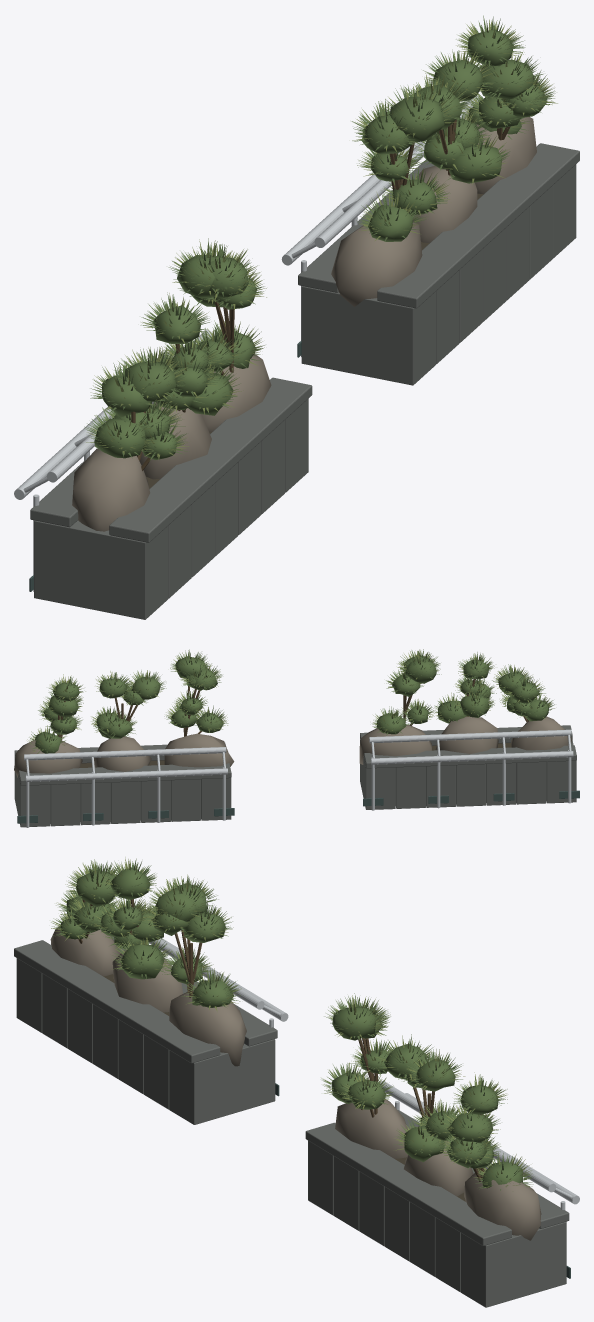
File: hachiko-surround.glb
3 views of the same model, one above another, from view 1: azimuth 30°, elevation 25°; view 2: azimuth 150°, elevation 25°; view 3: azimuth 270°, elevation 25° (orthographic). The views are drawn at different scales.
Visible parts, largest first — view 1: street_surround_stone, street_surround_needle, street_surround_rock, street_surround_silver, street_surround_branch; view 2: street_surround_stone, street_surround_needle, street_surround_rock, street_surround_silver, street_surround_panel, street_surround_branch; view 3: street_surround_stone, street_surround_needle, street_surround_rock, street_surround_silver, street_surround_branch.
Part boxes in pixels (x1,y1,x2,y2): street_surround_stone: (30,143,579,619); street_surround_needle: (84,15,557,461); street_surround_rock: (72,117,536,531); street_surround_silver: (14,96,479,591); street_surround_branch: (131,119,510,470); street_surround_stone: (14,725,576,827); street_surround_needle: (27,649,554,753); street_surround_rock: (14,716,572,777); street_surround_silver: (24,729,573,827); street_surround_panel: (17,790,579,823); street_surround_branch: (57,679,528,739); street_surround_stone: (14,936,569,1307); street_surround_needle: (51,857,533,1190); street_surround_rock: (50,926,541,1240); street_surround_silver: (149,938,579,1209); street_surround_branch: (78,899,484,1181).
Size of the model in its own units: 5.57 by 1.82 by 4.29.
